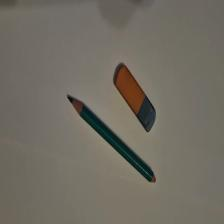eraser: (114, 66, 157, 134)
pencil: (68, 97, 157, 184)
